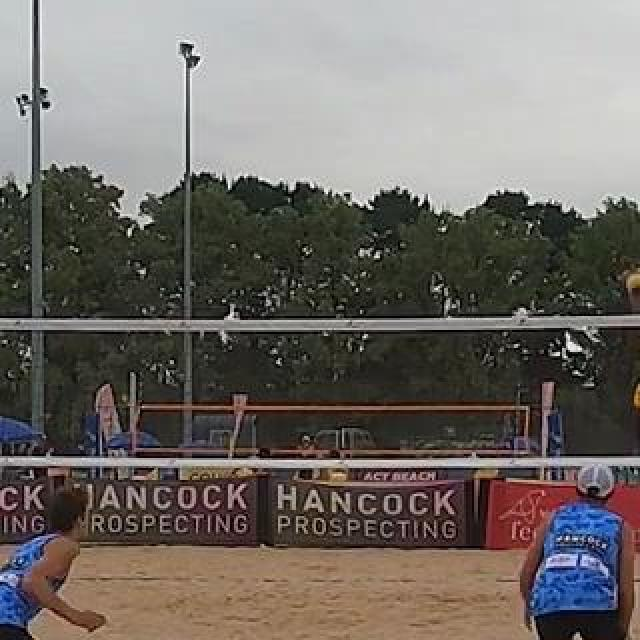volleyball: (626, 268, 640, 298)
